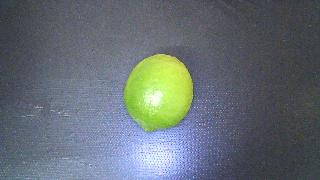EXPORTACION: (124, 54, 193, 132)
